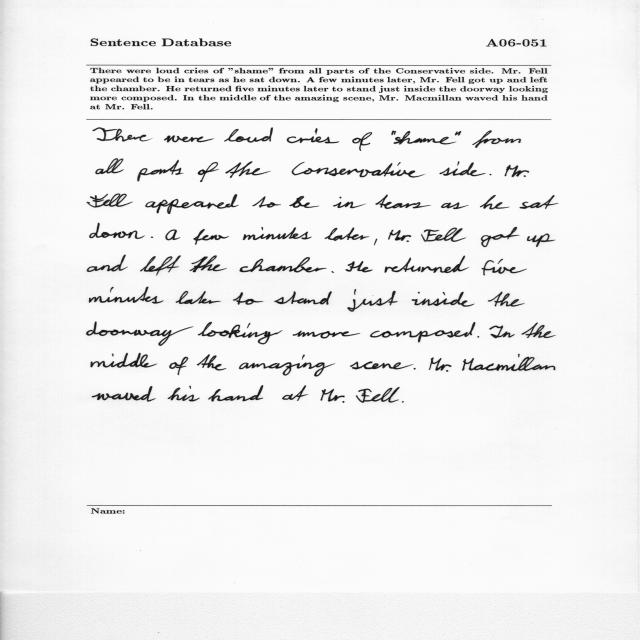word: (87, 322, 194, 346), (370, 322, 476, 343), (292, 162, 425, 178), (239, 355, 335, 377), (146, 194, 239, 214), (198, 322, 282, 344), (462, 354, 555, 371), (385, 256, 469, 273), (239, 257, 327, 273), (89, 287, 164, 304), (347, 289, 398, 312), (137, 160, 184, 182), (92, 386, 156, 402), (91, 353, 157, 368), (412, 292, 474, 307), (243, 227, 312, 240), (472, 130, 521, 148), (90, 223, 145, 239), (208, 386, 263, 402), (375, 194, 430, 209), (140, 256, 181, 276), (274, 291, 332, 305), (394, 131, 456, 144), (93, 128, 150, 142), (287, 128, 339, 143), (226, 161, 271, 178), (481, 227, 519, 247), (481, 259, 527, 275), (224, 128, 273, 143), (356, 387, 400, 403), (87, 255, 128, 272), (440, 162, 486, 177), (87, 194, 133, 208), (421, 228, 466, 242), (190, 256, 227, 273), (325, 227, 369, 241), (176, 291, 221, 304), (194, 229, 230, 245), (488, 292, 525, 307), (293, 331, 360, 339), (520, 195, 558, 209), (350, 362, 414, 370), (522, 323, 556, 338), (197, 354, 226, 371), (168, 386, 200, 401), (96, 159, 124, 175), (480, 195, 509, 210), (198, 162, 219, 182), (282, 385, 308, 401), (527, 233, 556, 247), (233, 292, 263, 305), (352, 132, 372, 151), (333, 197, 366, 208), (289, 196, 319, 208), (164, 136, 214, 143), (320, 389, 345, 403), (170, 357, 189, 375), (489, 326, 515, 339), (429, 357, 451, 372), (252, 197, 281, 208), (345, 261, 373, 272), (504, 165, 529, 177), (388, 230, 411, 242), (441, 202, 469, 209), (166, 230, 181, 241), (455, 131, 461, 136), (391, 131, 396, 135), (374, 239, 377, 245), (151, 236, 153, 238), (332, 271, 334, 273), (478, 336, 480, 338), (414, 368, 416, 370), (402, 401, 404, 403), (489, 174, 492, 175)
